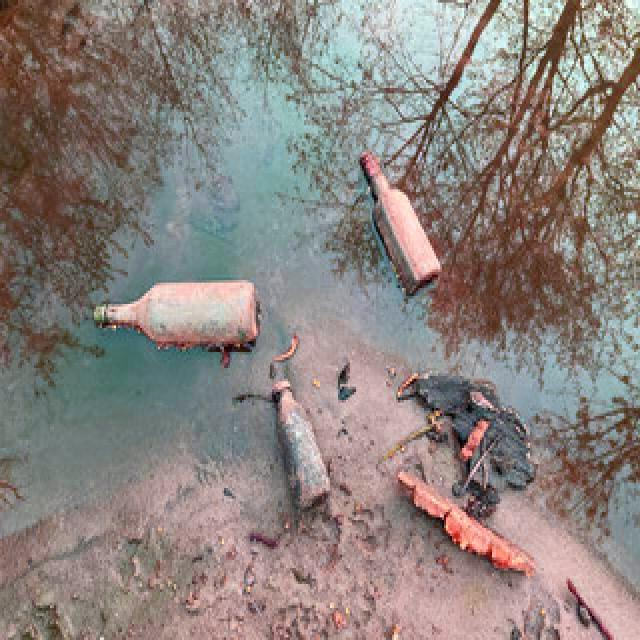Glass: (358, 146, 445, 292), (91, 280, 261, 347)
Plastic: (267, 374, 330, 512)
Trash: (396, 373, 536, 493)
